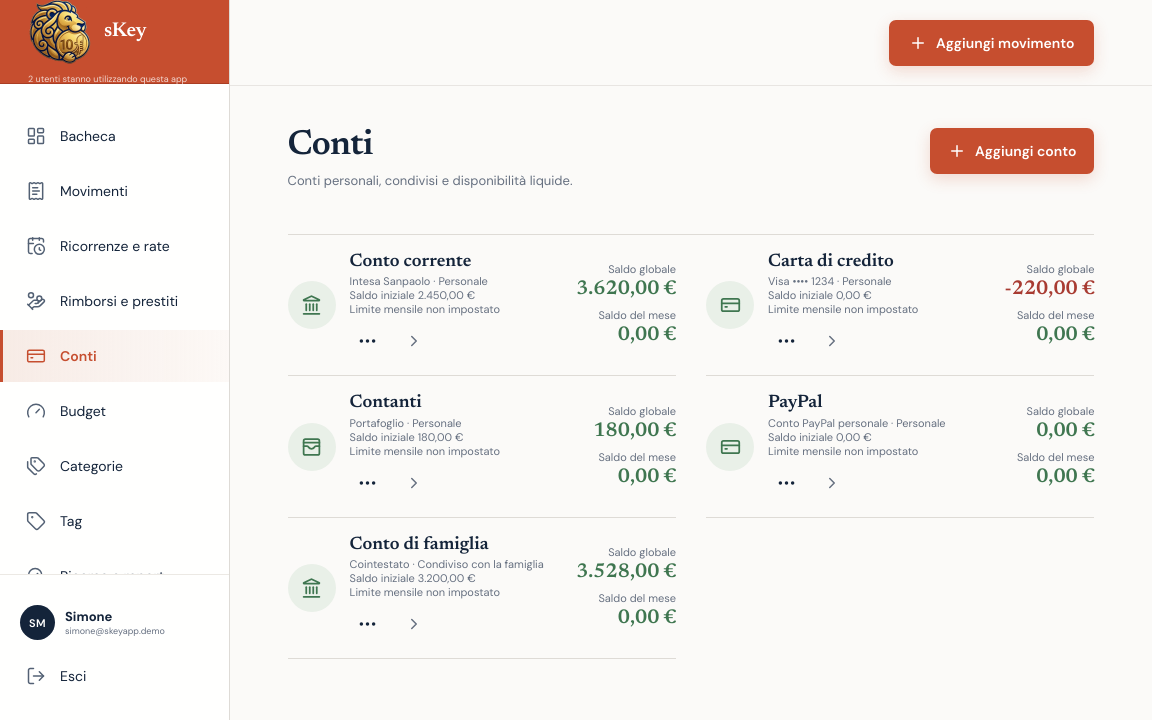
Scenario: filtered movement editor navigation › returns to the same account movement list after saving an edit
Expected: the text "Conto corrente" is shown, [350,253,472,271]
Click the button named "Vedi movimenti di Conto corrente": x=414, y=341 [396,323,432,359]
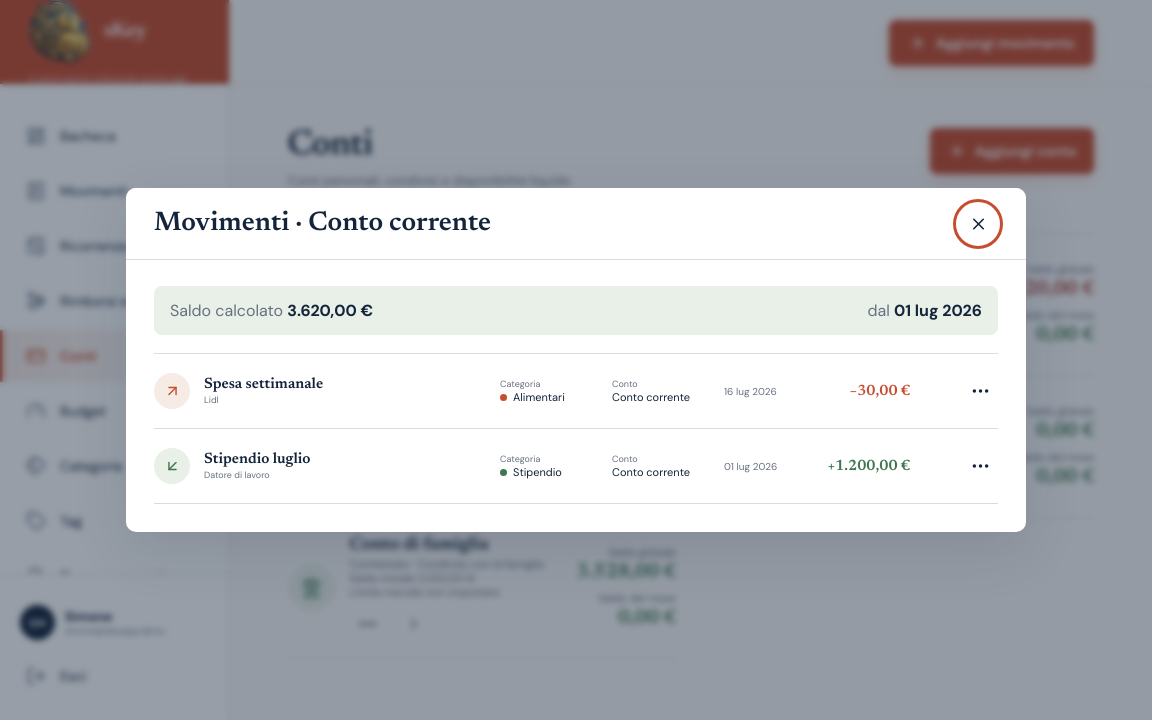
Click the button named "Azioni per Spesa settimanale": x=980, y=391 [970,379,990,403]
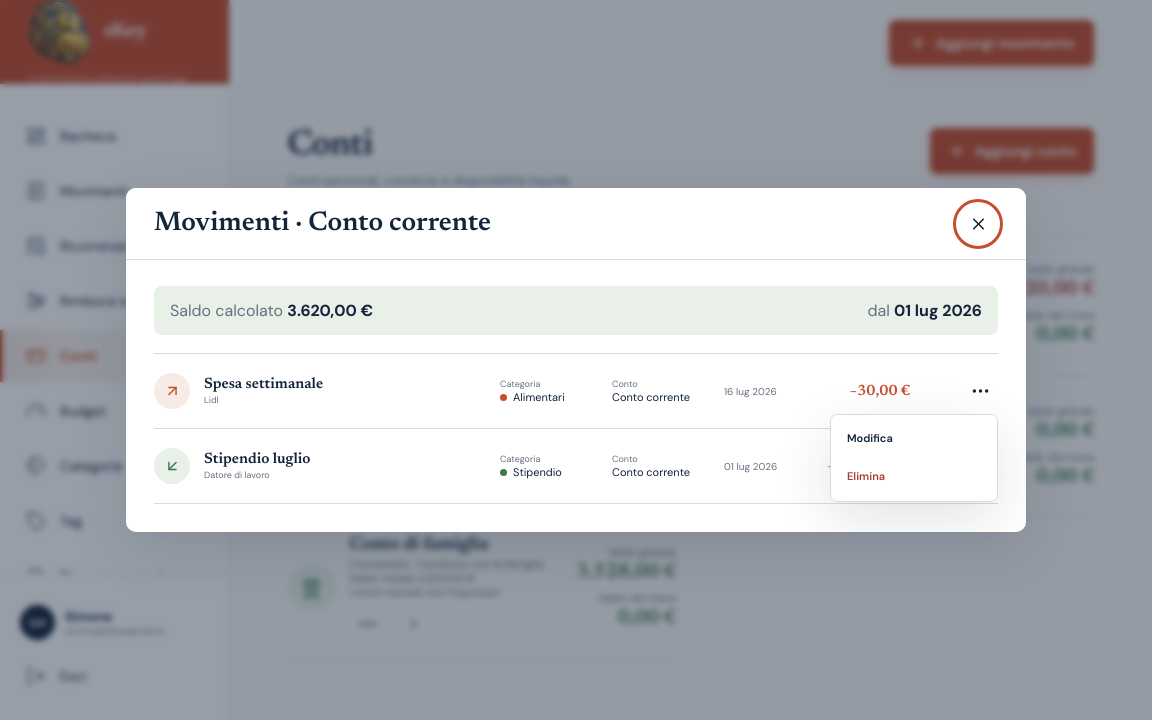
Click the menu item "Modifica": x=914, y=439 [836,420,992,458]
(page scrolled)
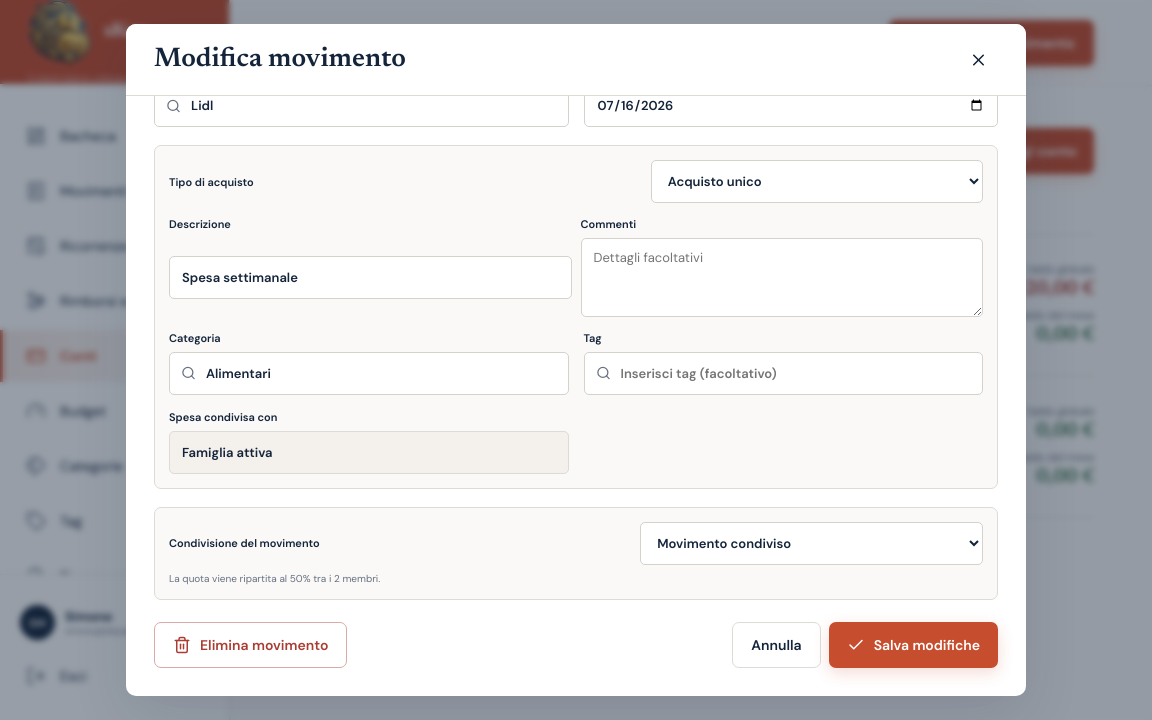
Click the button "Salva modifiche": x=913, y=644 [829,622,998,668]
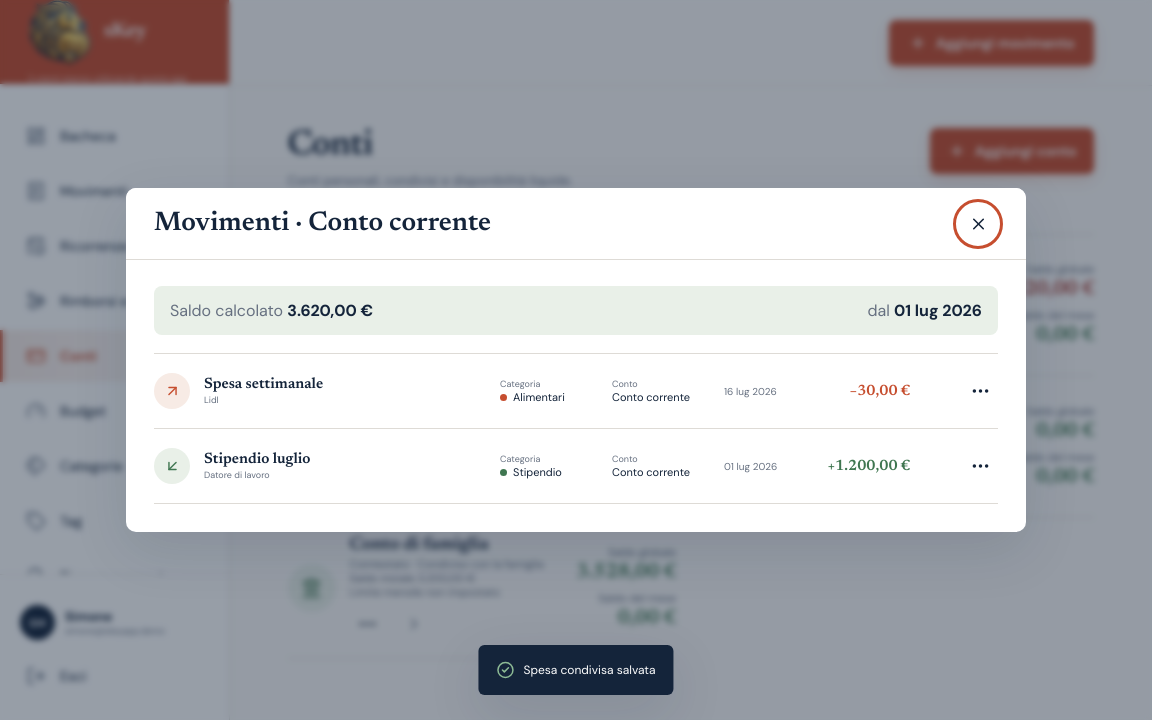
Expected: the text "Spesa settimanale" is shown, [204,377,323,392]
